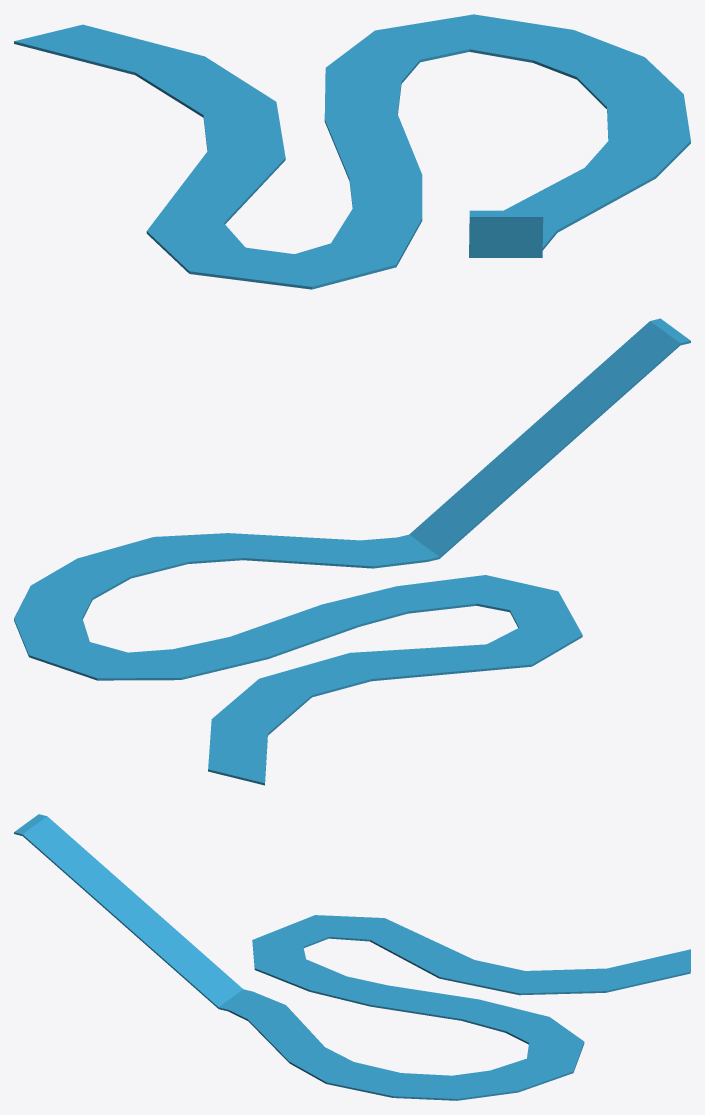
File: TopLaneSelected.fbx
The picture shows the model from 3 angles, top to bottom: view 1: azimuth 30°, elevation 25°; view 2: azimuth 150°, elevation 25°; view 3: azimuth 270°, elevation 25°; orthographic projection. The views are drawn at different scales.
Parts seen in each view (by area): view 1: TopLaneSelected; view 2: TopLaneSelected; view 3: TopLaneSelected.
Part boxes in pixels (bbox=[...]): TopLaneSelected: bbox=[14, 14, 690, 289]; TopLaneSelected: bbox=[14, 318, 690, 785]; TopLaneSelected: bbox=[14, 814, 690, 1100].
Bounding box in the file's own units: 2200 × 709 × 3420.
